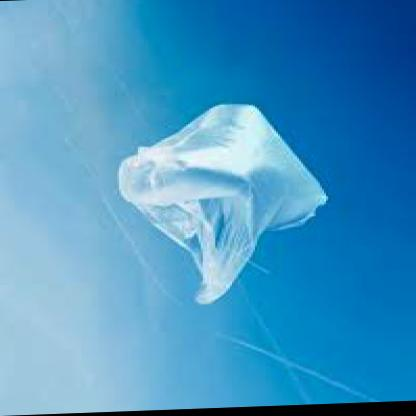Plastic: (103, 78, 354, 310)
